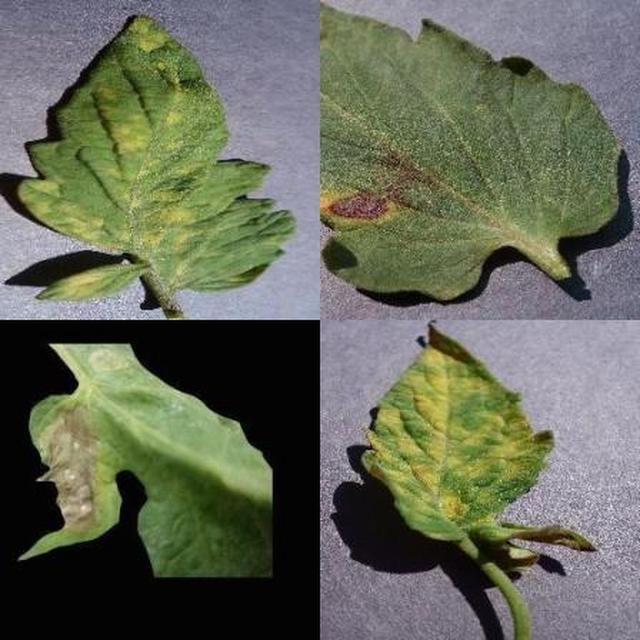Leaf Mold: (208, 217, 640, 640)
